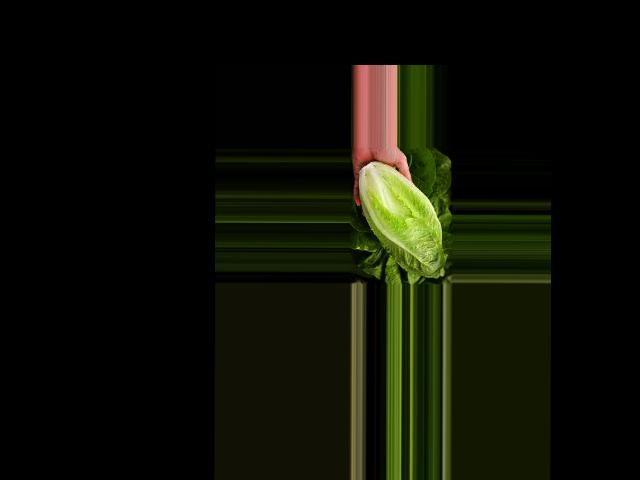lettuce: (342, 175, 446, 276)
